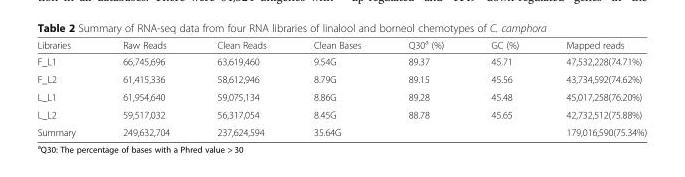table: (36, 37, 646, 137)
table column: (541, 37, 646, 137), (192, 37, 289, 137), (289, 37, 384, 137), (98, 37, 192, 137), (384, 37, 466, 137), (466, 37, 541, 137), (36, 37, 98, 137)
table column header: (36, 37, 646, 52)
table row: (36, 52, 646, 70), (36, 87, 646, 105), (36, 105, 646, 123), (36, 70, 646, 87), (36, 37, 646, 52), (36, 123, 646, 137)
